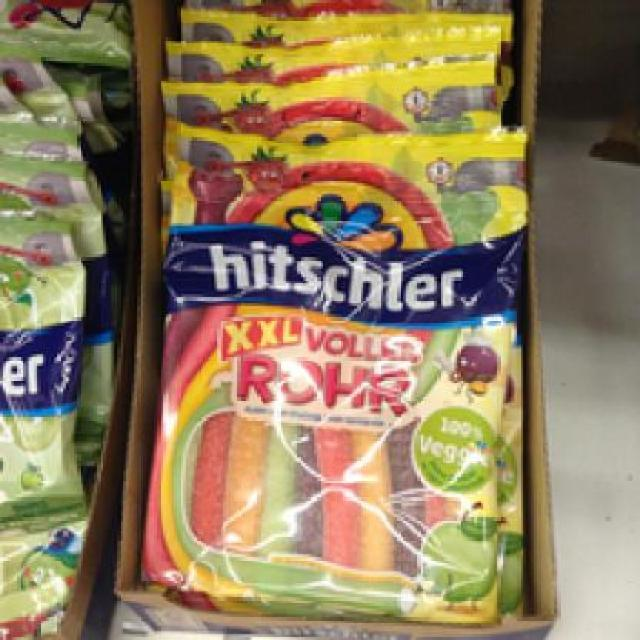Candy: (148, 97, 534, 626)
